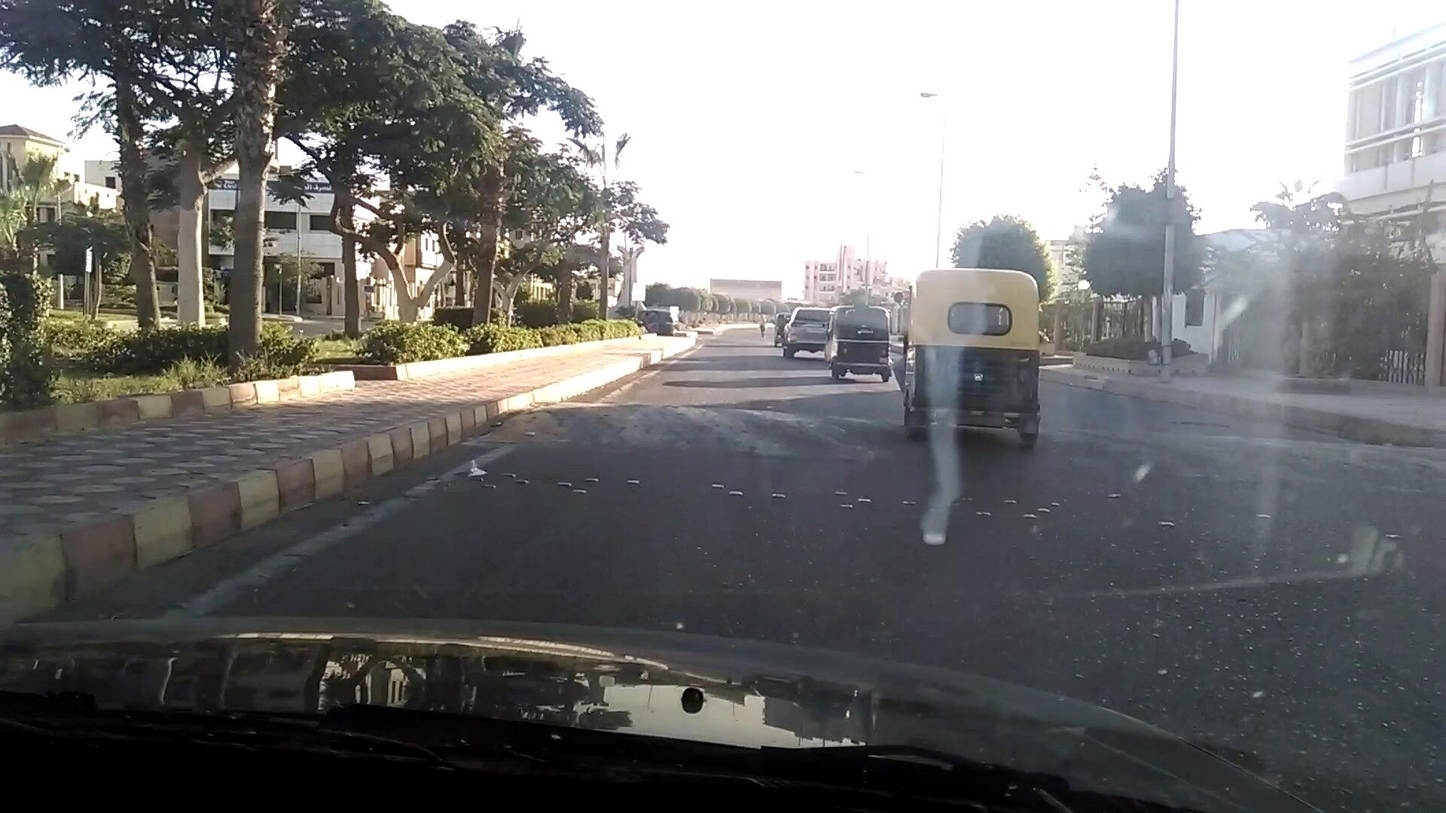Bump: (554, 405, 1446, 504)
